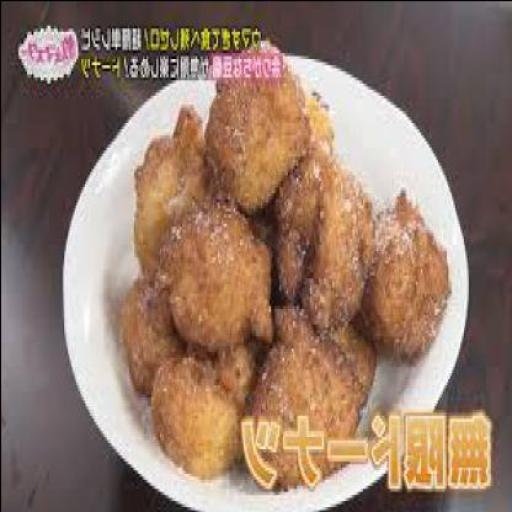biodegradable: (252, 302, 367, 488), (159, 186, 273, 351), (206, 37, 307, 217), (275, 153, 372, 320), (360, 183, 452, 354), (133, 98, 217, 280), (152, 344, 246, 478), (123, 265, 179, 390), (326, 314, 380, 396), (211, 332, 263, 406), (303, 92, 333, 143)
